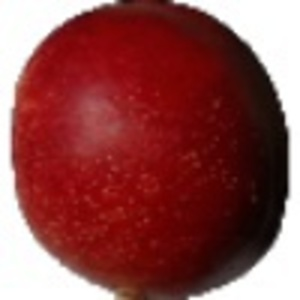nectarina: (8, 1, 289, 300)
